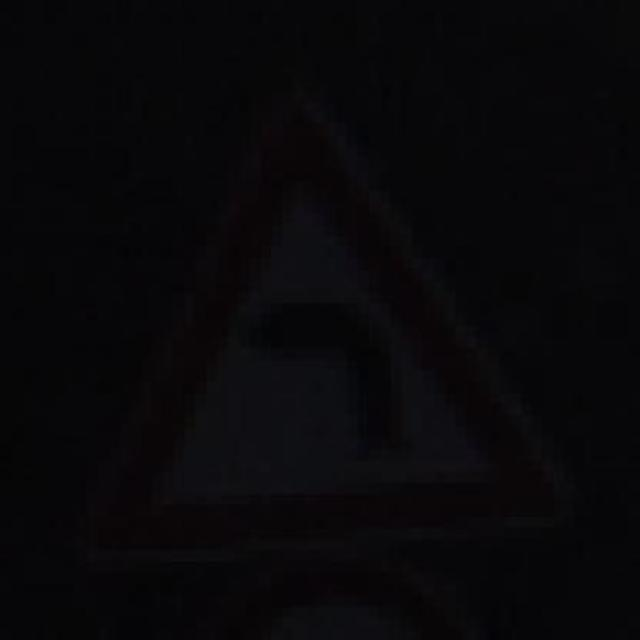Dangerous Left Curve Ahead: (75, 116, 552, 553)
